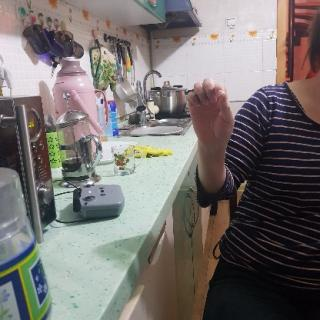FAA: (184, 74, 235, 152)
